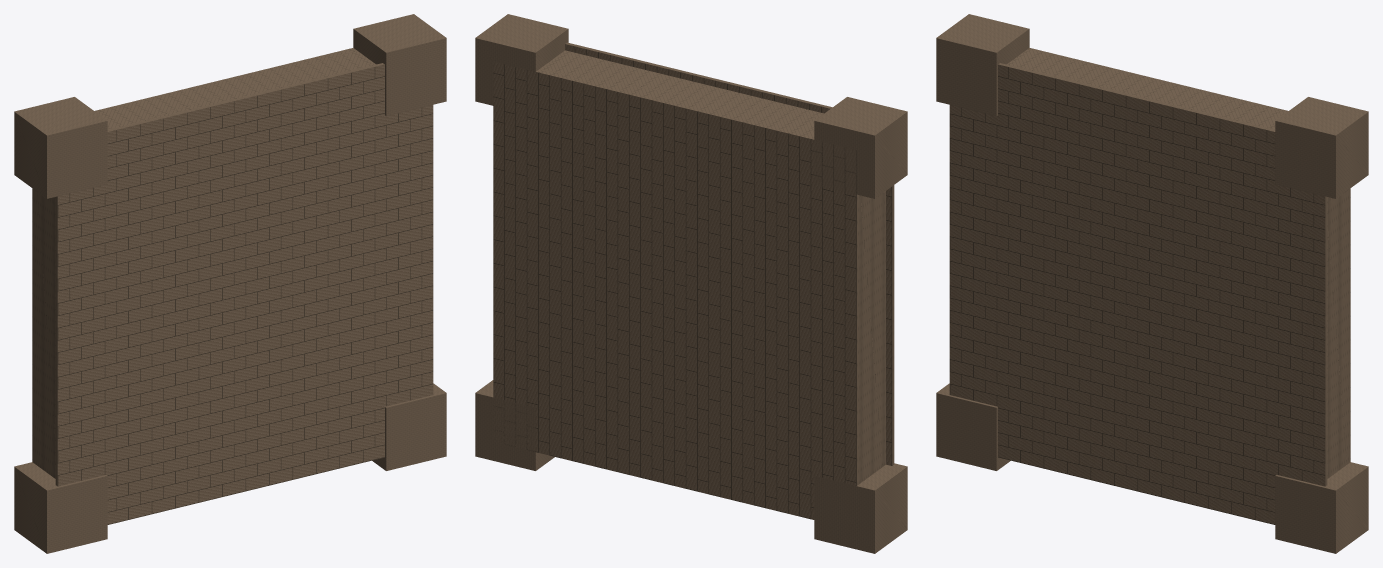
Rendered from SM_Ziggurat_Tier.obj.
The picture shows the model from 3 angles, left to right: view 1: azimuth 30°, elevation 25°; view 2: azimuth 150°, elevation 25°; view 3: azimuth 330°, elevation 25°; orthographic projection.
Visible parts, largest first — view 1: SM_Ziggurat_Tier; view 2: SM_Ziggurat_Tier; view 3: SM_Ziggurat_Tier.
Part boxes in pixels (bbox=[...]): SM_Ziggurat_Tier: bbox=[14, 14, 446, 553]; SM_Ziggurat_Tier: bbox=[475, 14, 907, 553]; SM_Ziggurat_Tier: bbox=[936, 14, 1368, 553].
Bounding box in the file's own units: 3300 × 3300 × 470.
Materials: 1 (1 with a texture image).
